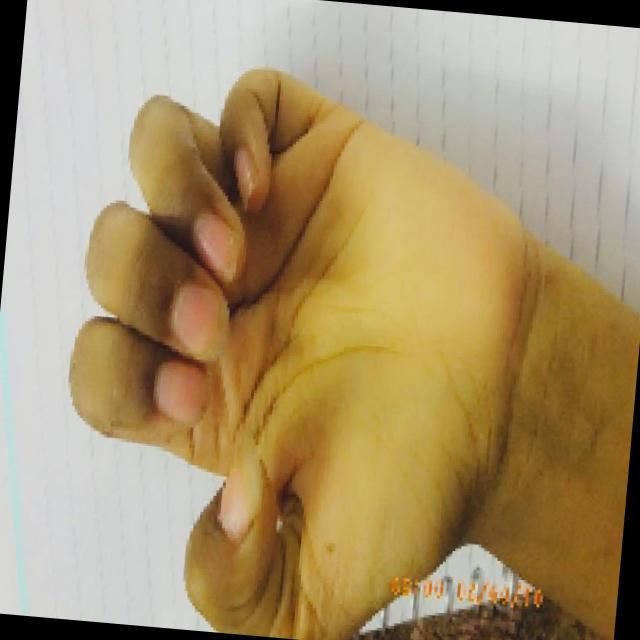Nail: (219, 440, 265, 539), (170, 281, 228, 358), (153, 358, 207, 424), (192, 211, 236, 278), (235, 145, 254, 211)
